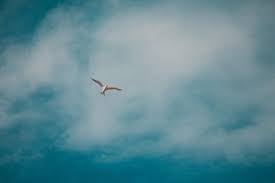bird: (87, 78, 126, 98)
sky: (1, 1, 272, 183)
